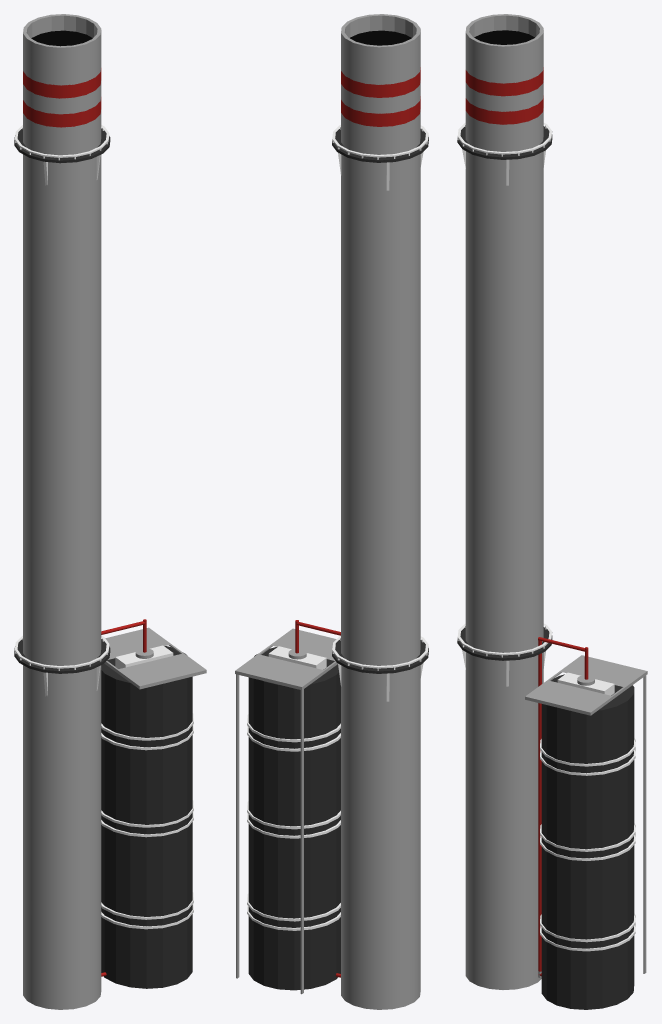
The model's file is Coal Plant 1.FBX.
3 renders of one model, left to right at view 1: azimuth 30°, elevation 25°; view 2: azimuth 150°, elevation 25°; view 3: azimuth 330°, elevation 25°, orthographic. The views are drawn at different scales.
Visible parts, largest first — view 1: Plant Body; view 2: Plant Body; view 3: Plant Body.
Boxes of the visible parts, bbox=[...] form: Plant Body: bbox=[14, 14, 206, 1009]; Plant Body: bbox=[235, 14, 428, 1009]; Plant Body: bbox=[457, 14, 647, 1009].
Size of the model in its own units: 15.38 by 84.07 by 9.16.
